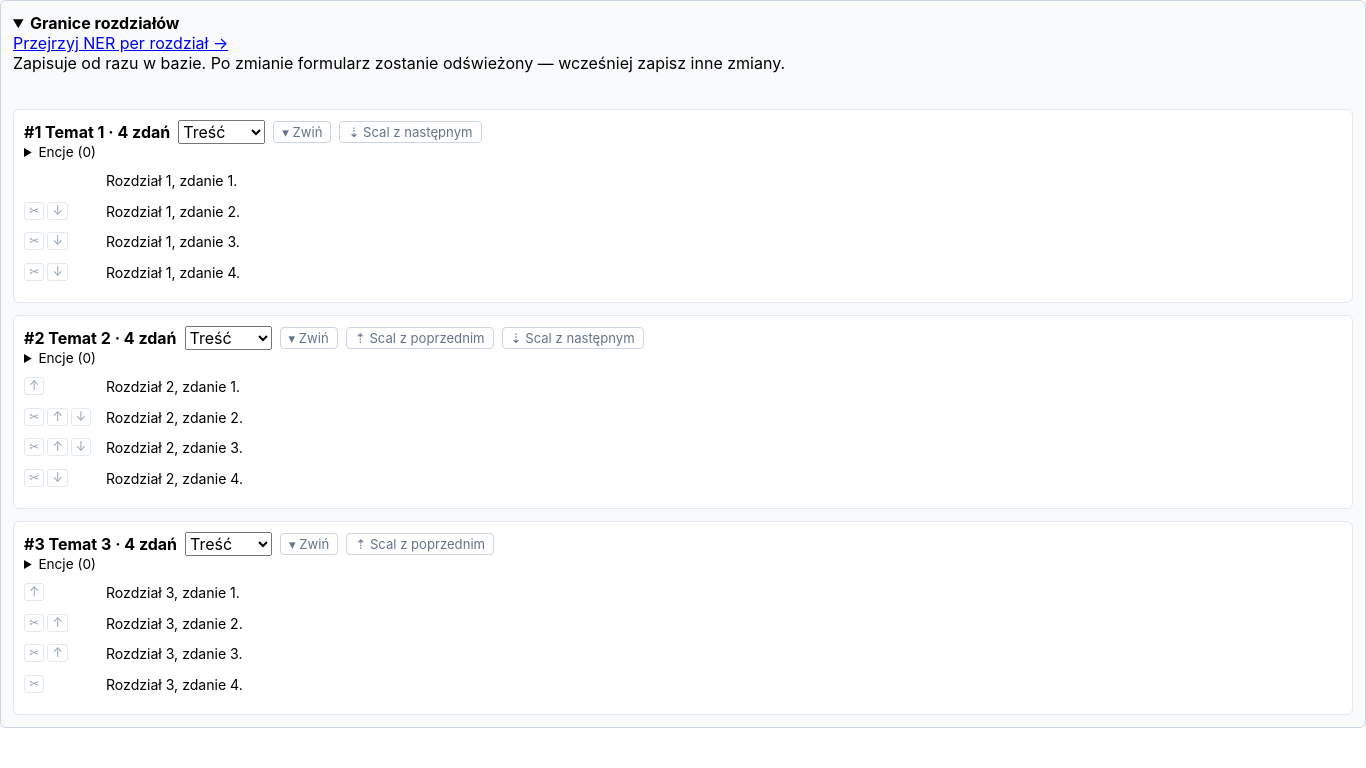
Test case: changes chapter type to REKLAMA and displays its badge
Expected: the text "#1 Temat 1 · 4 zdań" is shown, [24,122,170,142]
Select "Reklama" in the dropdown named "Typ rozdziału 2" at (228, 338), box [185,326,272,350]
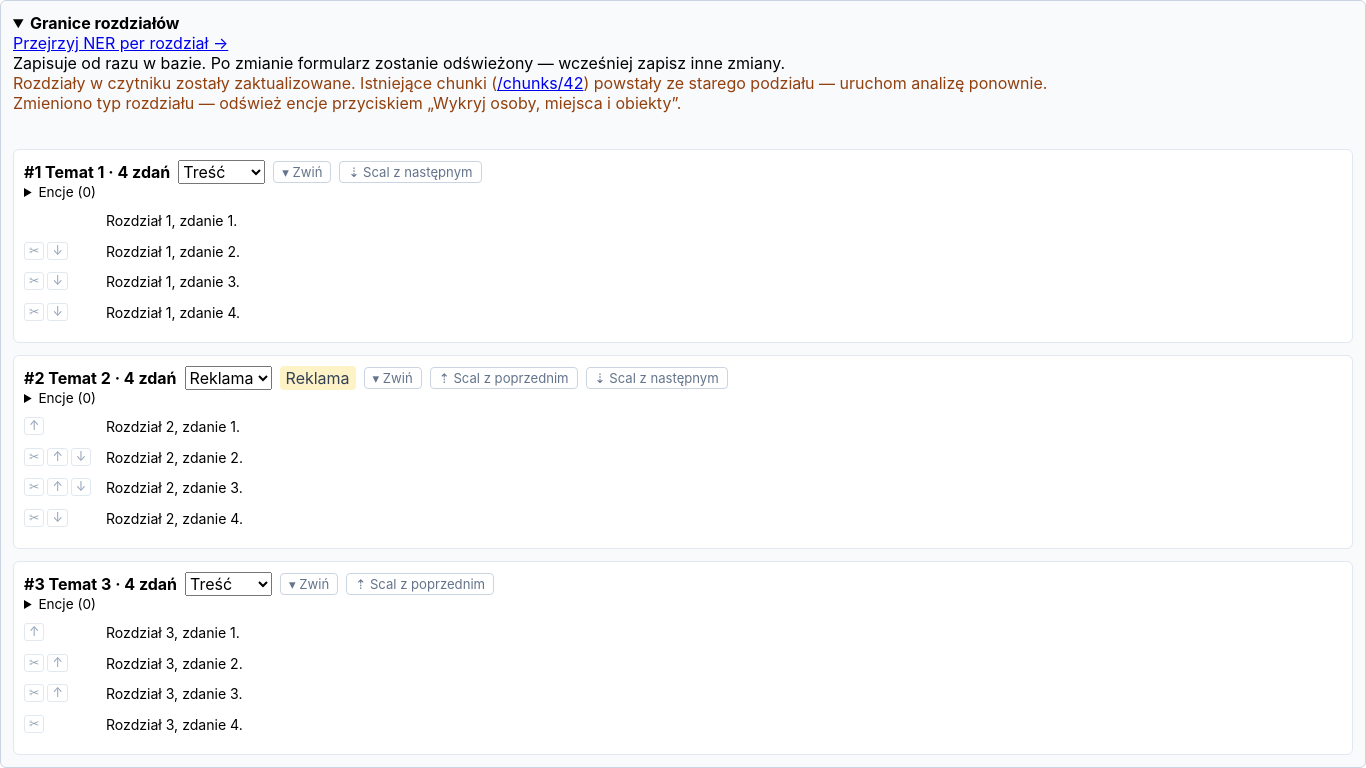
Result: the link "/chunks/42" is shown at [497,73,584,93]
